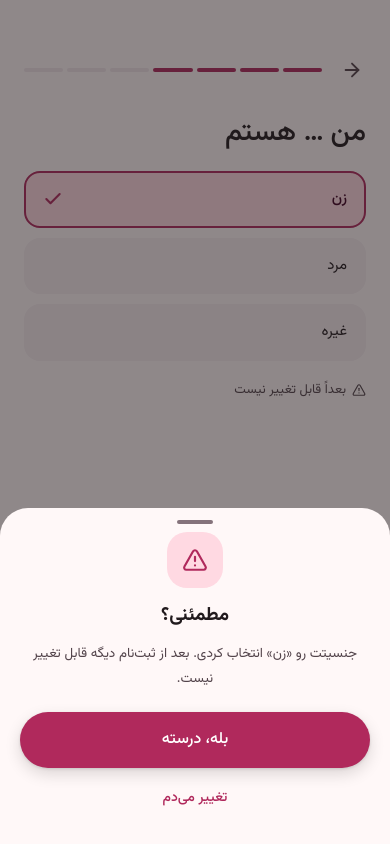
Onboarding photo step › when the Telegram photo cannot be fetched, drops the button and opens the file picker instead of an alert
Earlier steps of the test are not shown.
Click the button "بله، درسته" at (195, 740), box [20,712,370,768]
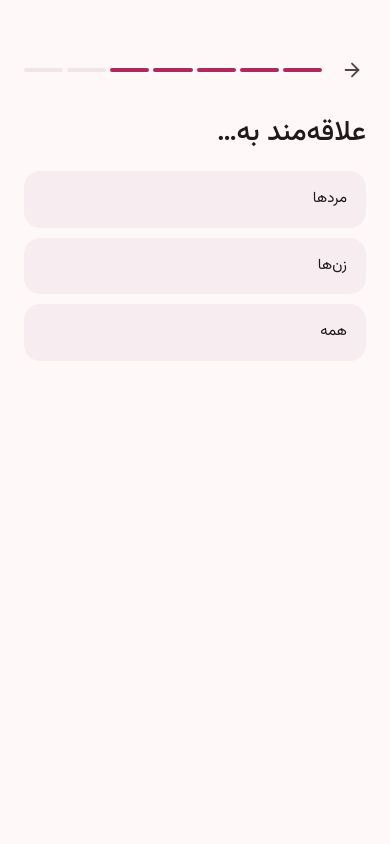
Click the button "همه" at (334, 332), box [24,304,366,360]
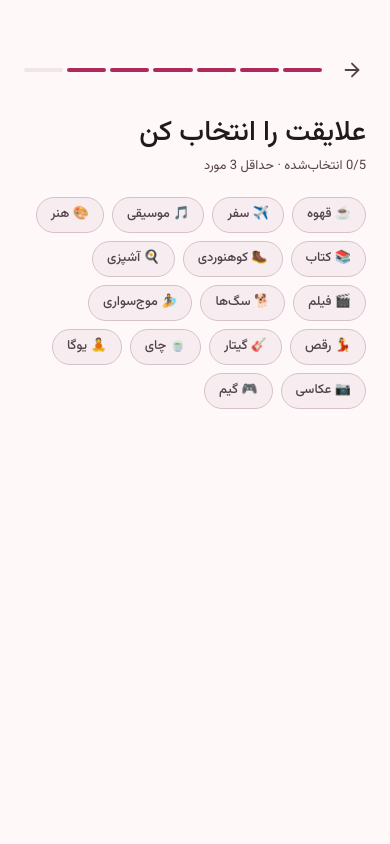
Click the button "☕ قهوه" at (329, 214), box [292,196,366,232]
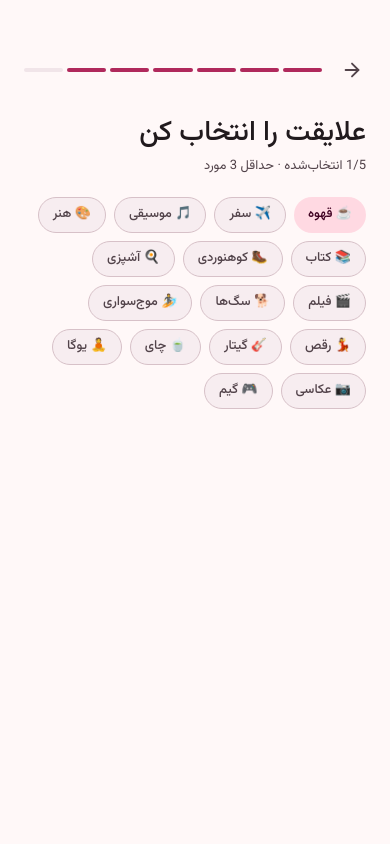
Click the button "✈️ سفر" at (250, 214), box [214,196,286,232]
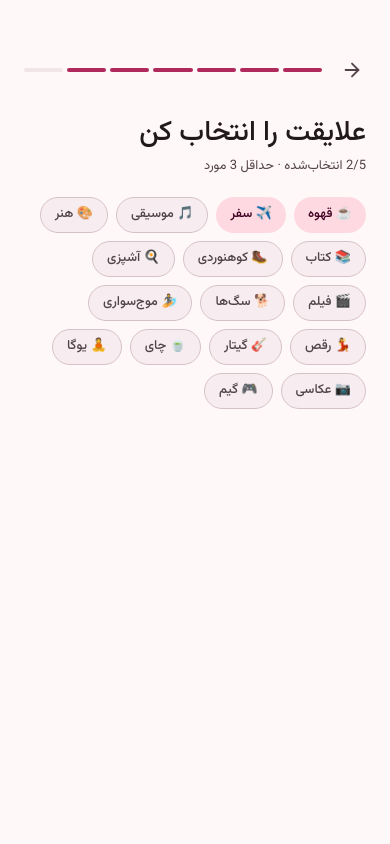
Click the button "🎵 موسیقی" at (162, 214), box [116,196,208,232]
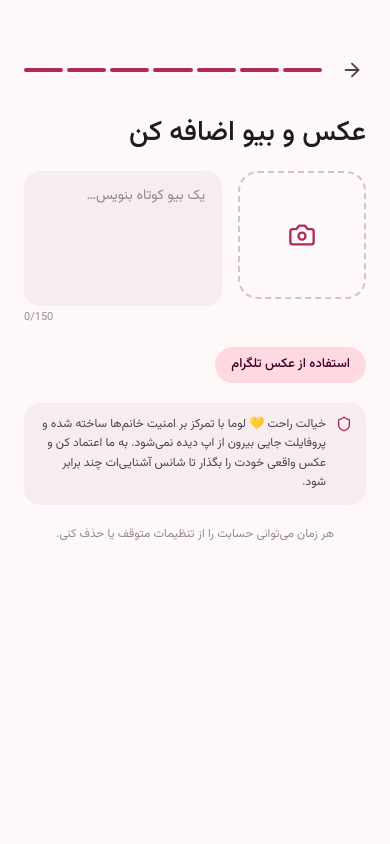
Click the button "استفاده از عکس تلگرام" at (291, 364), box [215,346,366,382]
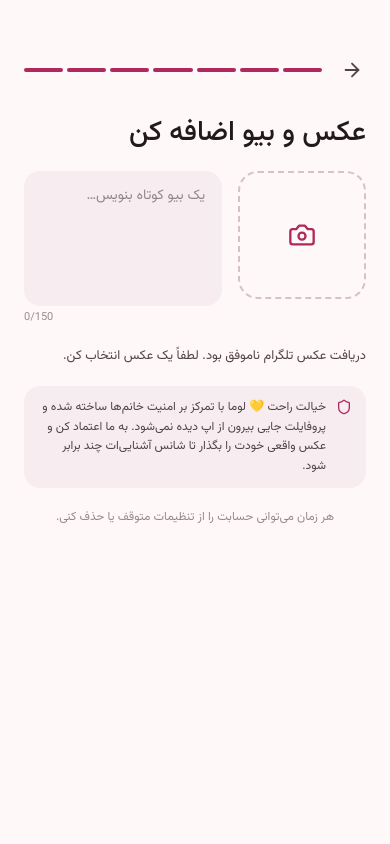
Check: the text "دریافت عکس تلگرام ناموفق بود. لطفاً یک عکس انتخاب کن." is shown, box [24,346,366,366]
Check: the button "استفاده از عکس تلگرام" is gone
